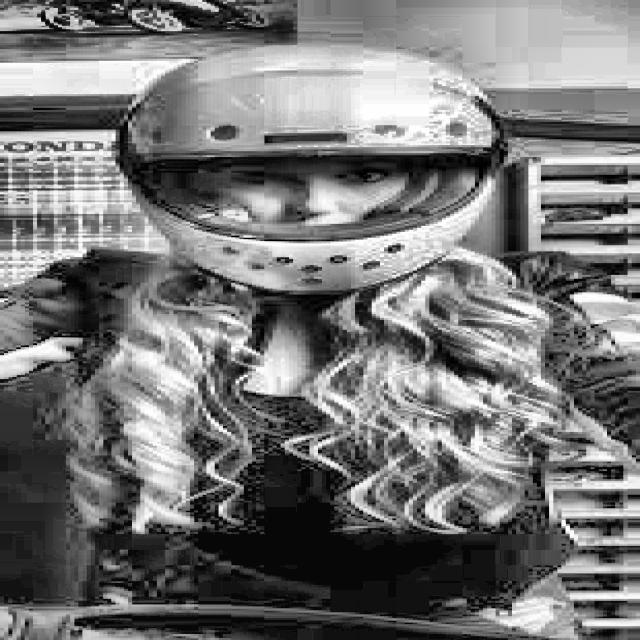Helmet: (111, 28, 580, 291)
